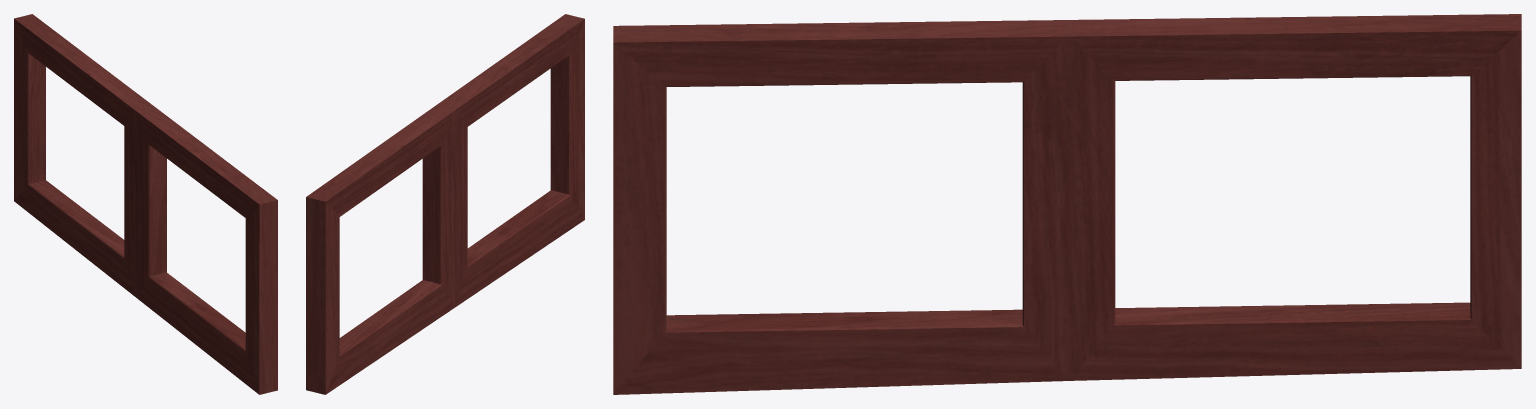
The model's file is SM_GJJ_2F_Windowframe01E.fbx.
3 views of the same model, side by side, from view 1: azimuth 30°, elevation 25°; view 2: azimuth 150°, elevation 25°; view 3: azimuth 270°, elevation 25° (orthographic). The views are drawn at different scales.
Parts seen in each view (by area): view 1: SM_GJJ_2F_Windowframe01E; view 2: SM_GJJ_2F_Windowframe01E; view 3: SM_GJJ_2F_Windowframe01E.
Part boxes in pixels (box(x1,y1,x2,y2)): SM_GJJ_2F_Windowframe01E: box(14, 14, 277, 394); SM_GJJ_2F_Windowframe01E: box(306, 14, 584, 394); SM_GJJ_2F_Windowframe01E: box(613, 14, 1521, 394).
Bounding box in the file's own units: 4.53 × 104 × 46.21.
1 material, 1 textured.
